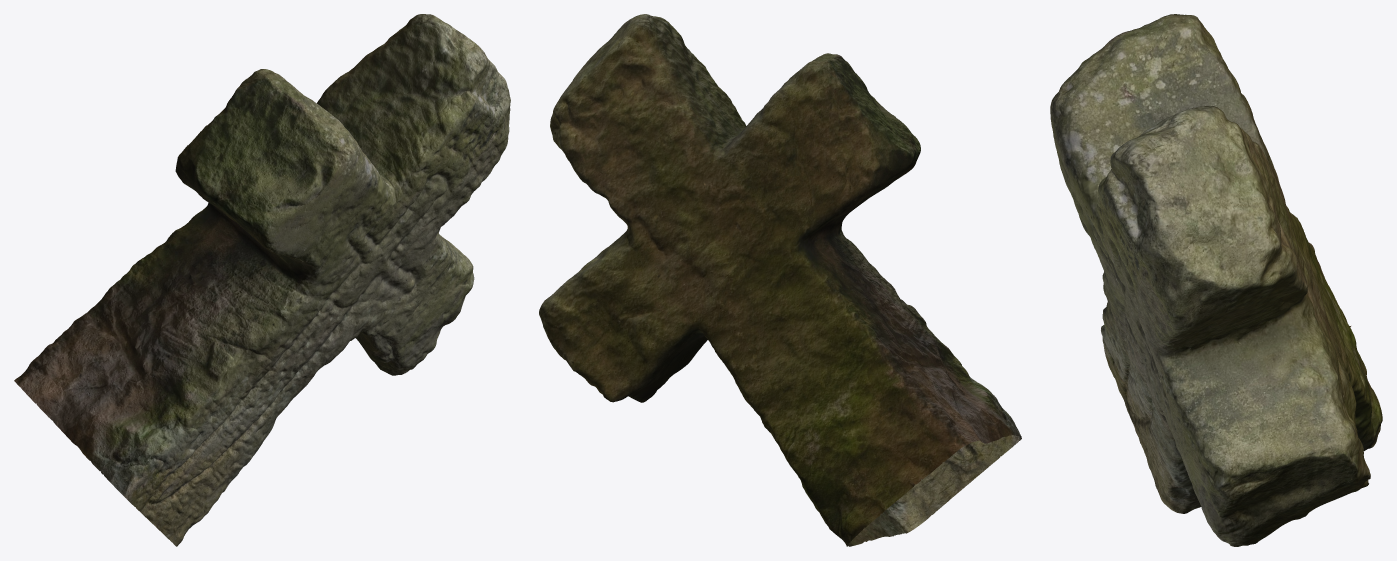
3 views of the same model, side by side, from view 1: azimuth 30°, elevation 25°; view 2: azimuth 150°, elevation 25°; view 3: azimuth 270°, elevation 25° (orthographic). The views are drawn at different scales.
Parts seen in each view (by area): view 1: Model; view 2: Model; view 3: Model.
Part boxes in pixels (x1,y1,x2,y2): Model: [14, 14, 510, 546]; Model: [539, 14, 1021, 546]; Model: [1050, 14, 1382, 546].
Size of the model in its own units: 416 by 406 by 218.
